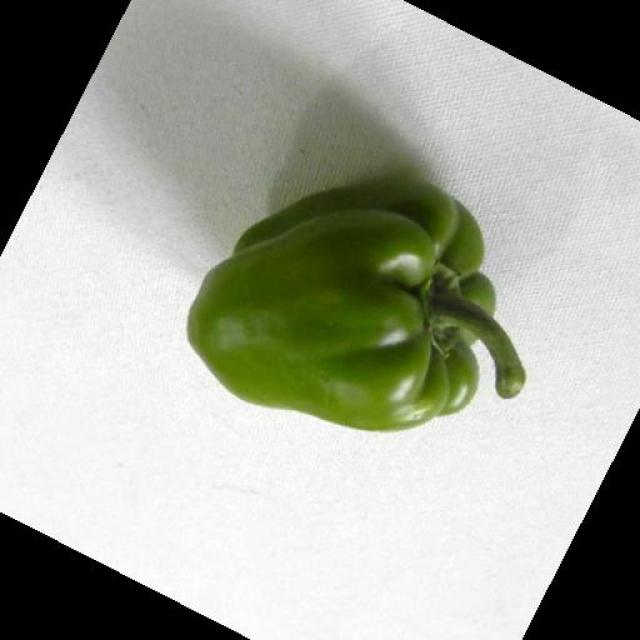Fresh_Capsicum: (202, 201, 527, 432)
